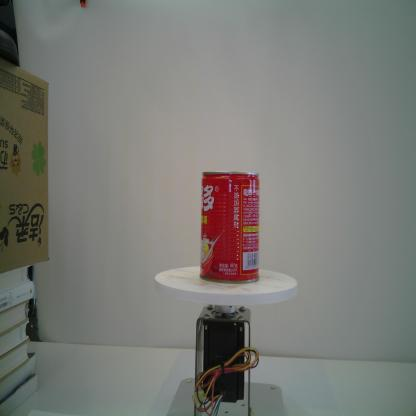Canned Food: (199, 170, 260, 284)
